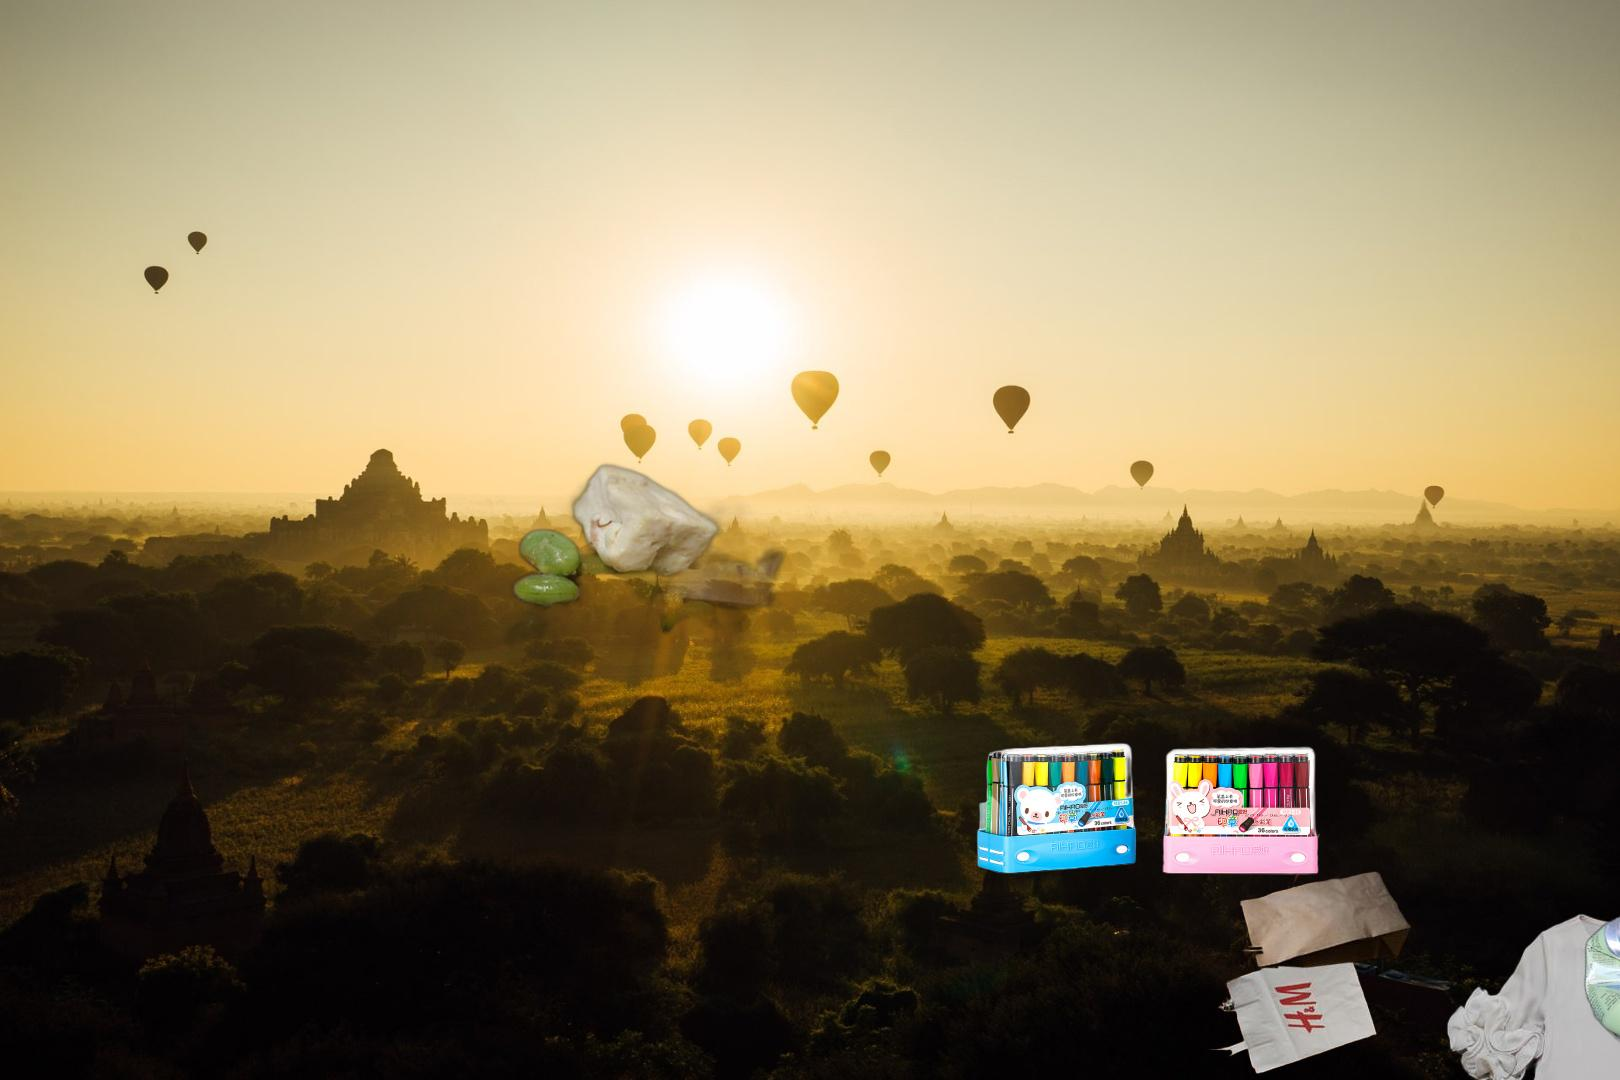biological: (318, 457, 818, 729)
clothes: (1446, 906, 1620, 1080)
metal-cans: (1580, 438, 1620, 1052)
paper-bag: (1201, 830, 1414, 1078)
penholder: (974, 740, 1321, 877)
